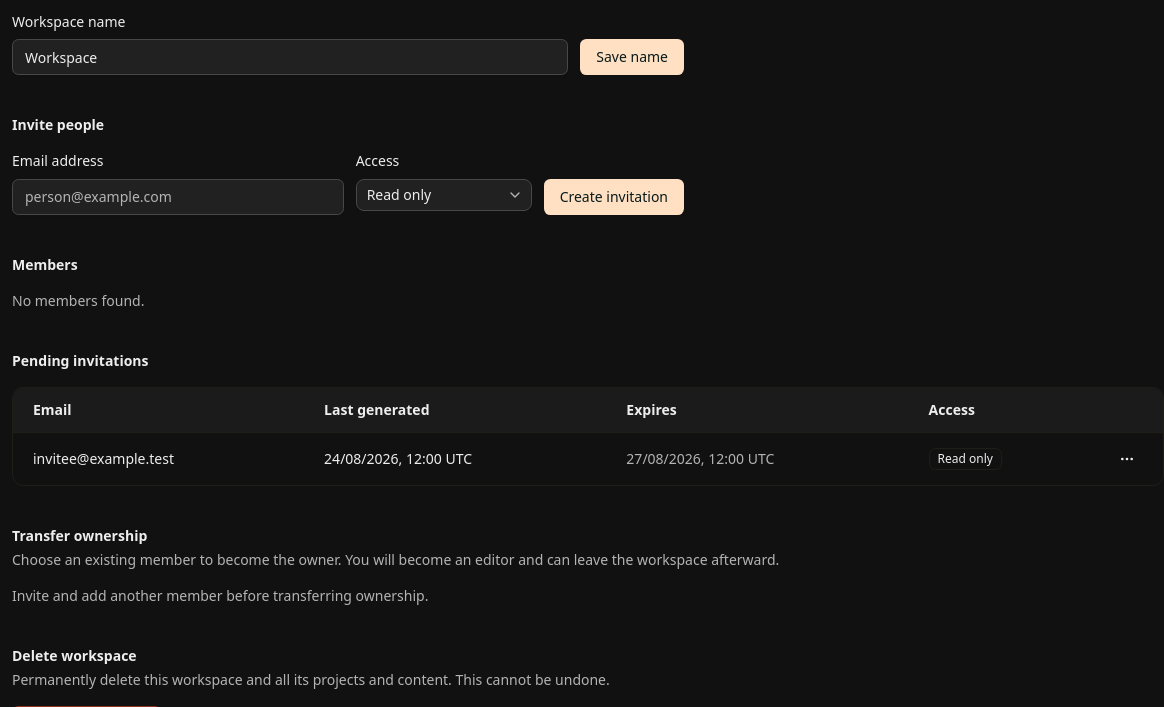
it: WorkspaceManagement › provides regenerate and revoke controls inside the invitation actions menu
The width and height of the screenshot is (1164, 707).
Click the button named "Open invitation actions for invitee@example.test" at [1127, 459], box [1111, 443, 1143, 475]
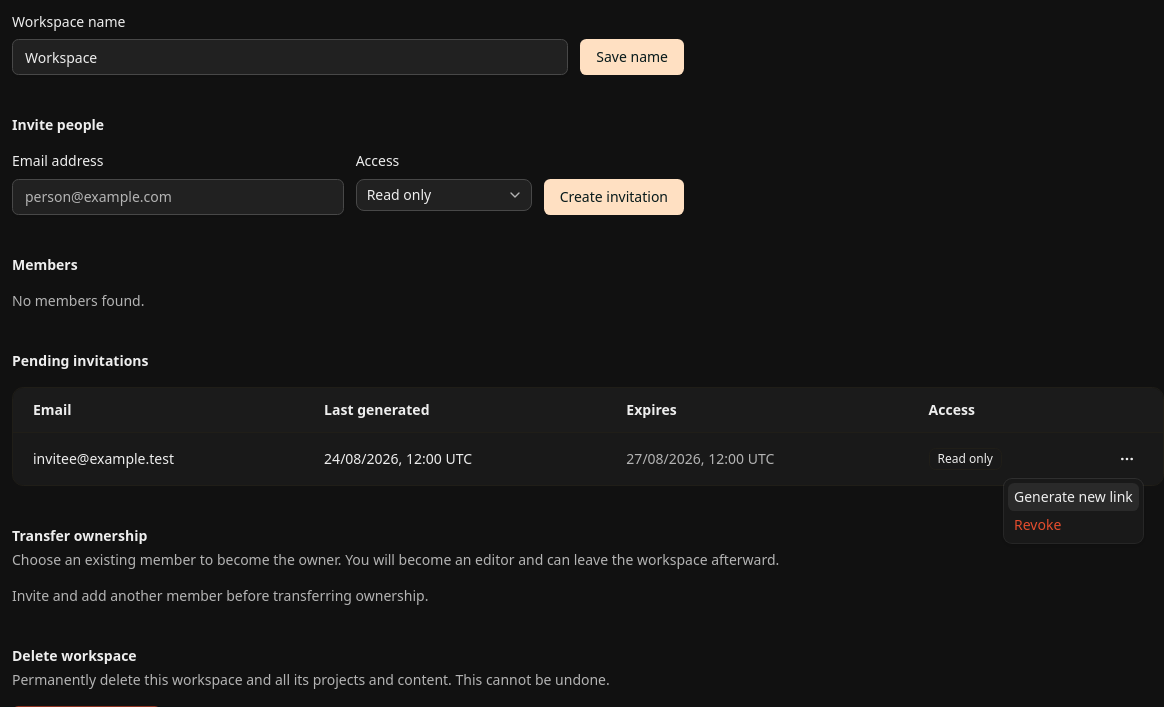
Now the menu item "Generate new link" is shown, box [1008, 483, 1139, 511]
Now the menu item "Revoke" is shown, box [1014, 515, 1061, 534]
